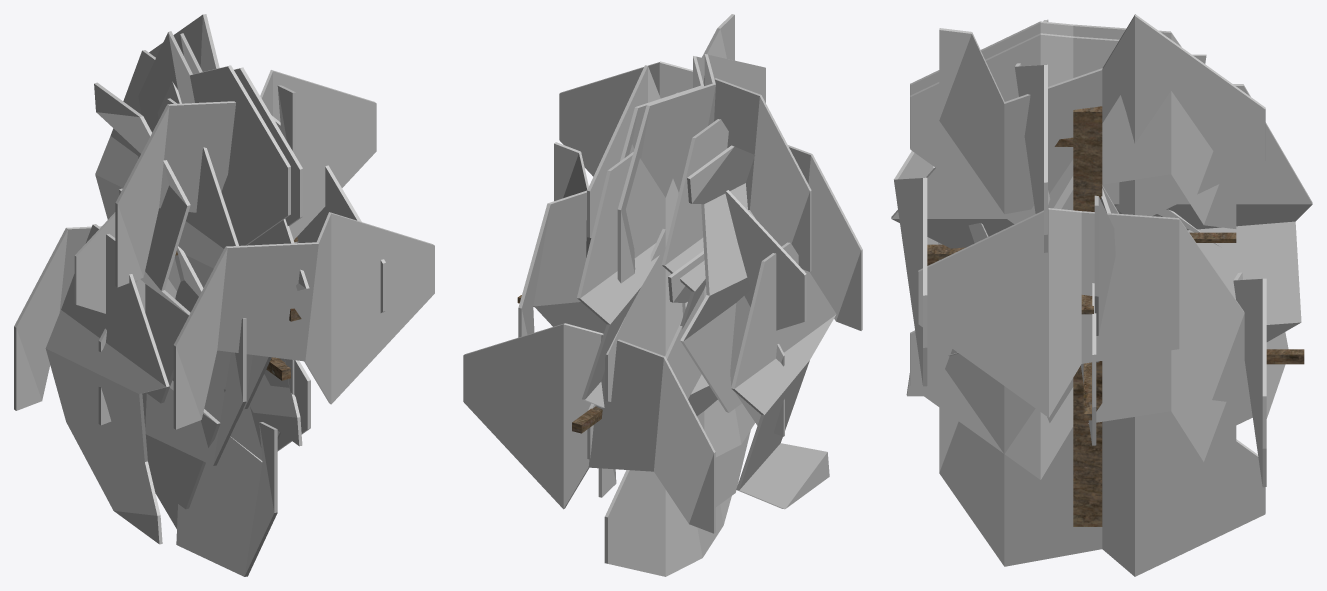
Rendered from Bush_LOD1.fbx.
3 renders of one model, left to right at view 1: azimuth 30°, elevation 25°; view 2: azimuth 150°, elevation 25°; view 3: azimuth 270°, elevation 25°, orthographic. The views are drawn at different scales.
Visible parts, largest first — view 1: Bush_LOD1|Tree Branch.001|Dupli|12, Bush_LOD1|Tree Branch.001|Dupli|7, Bush_LOD1|Tree Branch.001|Dupli|15, Bush_LOD1|Tree Branch.001|Dupli|9, Bush_LOD1|Tree Branch.001|Dupli|3, Bush_LOD1|Tree Branch.001|Dupli|2, Bush_LOD1|Tree Branch.001|Dupli|17, Bush_LOD1|Tree Branch.001|Dupli|16, Bush_LOD1|Tree Branch.001|Dupli|19, Bush_LOD1|Tree Branch.001|Dupli|1, Bush_LOD1|Tree Branch.001|Dupli|11, Bush_LOD1|Tree Branch.001|Dupli|13 (+9 smaller); view 2: Bush_LOD1|Tree Branch.001|Dupli|17, Bush_LOD1|Tree Branch.001|Dupli|7, Bush_LOD1|Tree Branch.001|Dupli|15, Bush_LOD1|Tree Branch.001|Dupli|2, Bush_LOD1|Tree Branch.001|Dupli|11, Bush_LOD1|Tree Branch.001|Dupli|9, Bush_LOD1|Tree Branch.001|Dupli|3, Bush_LOD1|Tree Branch.001|Dupli|12, Bush_LOD1|Tree Branch.001|Dupli|18, Bush_LOD1|Tree Branch.001|Dupli|14, Bush_LOD1|Tree Branch.001|Dupli|19, Bush_LOD1|Tree Branch.001|Dupli|6 (+6 smaller); view 3: Bush_LOD1|Tree Branch.001|Dupli|14, Bush_LOD1|Tree Branch.001|Dupli|8, Bush_LOD1|Tree Branch.001|Dupli|3, Bush_LOD1|Tree Branch.001|Dupli|10, Bush_LOD1|Tree Branch.001|Dupli|, Bush_LOD1|Tree Branch.001|Dupli|11, Bush_LOD1, Bush_LOD1|Tree Branch.001|Dupli|4, Bush_LOD1|Tree Branch.001|Dupli|13, Bush_LOD1|Tree Branch.001|Dupli|17, Bush_LOD1|Tree Branch.001|Dupli|12, Bush_LOD1|Tree Branch.001|Dupli|7 (+4 smaller).
Part boxes in pixels (x1,y1,x2,y2): Bush_LOD1|Tree Branch.001|Dupli|12: (173, 212, 434, 429); Bush_LOD1|Tree Branch.001|Dupli|7: (115, 70, 376, 287); Bush_LOD1|Tree Branch.001|Dupli|15: (45, 224, 169, 544); Bush_LOD1|Tree Branch.001|Dupli|9: (138, 31, 290, 245); Bush_LOD1|Tree Branch.001|Dupli|3: (147, 422, 277, 576); Bush_LOD1|Tree Branch.001|Dupli|2: (94, 82, 190, 403); Bush_LOD1|Tree Branch.001|Dupli|17: (14, 226, 101, 410); Bush_LOD1|Tree Branch.001|Dupli|16: (142, 318, 246, 465); Bush_LOD1|Tree Branch.001|Dupli|19: (160, 98, 238, 392); Bush_LOD1|Tree Branch.001|Dupli|1: (119, 188, 220, 509); Bush_LOD1|Tree Branch.001|Dupli|11: (95, 50, 181, 219); Bush_LOD1|Tree Branch.001|Dupli|13: (247, 219, 309, 446); Bush_LOD1|Tree Branch.001|Dupli|17: (463, 323, 715, 533); Bush_LOD1|Tree Branch.001|Dupli|7: (559, 61, 811, 271); Bush_LOD1|Tree Branch.001|Dupli|15: (731, 242, 836, 509); Bush_LOD1|Tree Branch.001|Dupli|2: (680, 145, 755, 412); Bush_LOD1|Tree Branch.001|Dupli|11: (577, 152, 665, 407); Bush_LOD1|Tree Branch.001|Dupli|9: (617, 54, 765, 283); Bush_LOD1|Tree Branch.001|Dupli|3: (604, 470, 731, 576); Bush_LOD1|Tree Branch.001|Dupli|12: (788, 145, 862, 330); Bush_LOD1|Tree Branch.001|Dupli|18: (554, 142, 806, 330); Bush_LOD1|Tree Branch.001|Dupli|14: (518, 190, 586, 337); Bush_LOD1|Tree Branch.001|Dupli|19: (661, 119, 728, 328); Bush_LOD1|Tree Branch.001|Dupli|6: (605, 229, 682, 401); Bush_LOD1|Tree Branch.001|Dupli|14: (918, 208, 1244, 417); Bush_LOD1|Tree Branch.001|Dupli|8: (939, 14, 1265, 215); Bush_LOD1|Tree Branch.001|Dupli|3: (939, 407, 1265, 576); Bush_LOD1|Tree Branch.001|Dupli|10: (910, 33, 1236, 228); Bush_LOD1|Tree Branch.001|Dupli|: (910, 330, 1236, 479); Bush_LOD1|Tree Branch.001|Dupli|11: (1102, 84, 1312, 341); Bush_LOD1: (927, 106, 1304, 526); Bush_LOD1|Tree Branch.001|Dupli|4: (945, 349, 1252, 473); Bush_LOD1|Tree Branch.001|Dupli|13: (891, 159, 1119, 396); Bush_LOD1|Tree Branch.001|Dupli|17: (1233, 272, 1288, 487); Bush_LOD1|Tree Branch.001|Dupli|12: (894, 151, 938, 386); Bush_LOD1|Tree Branch.001|Dupli|7: (1015, 19, 1050, 252).
Size of the model in its own units: 70.37 by 117 by 78.58.
